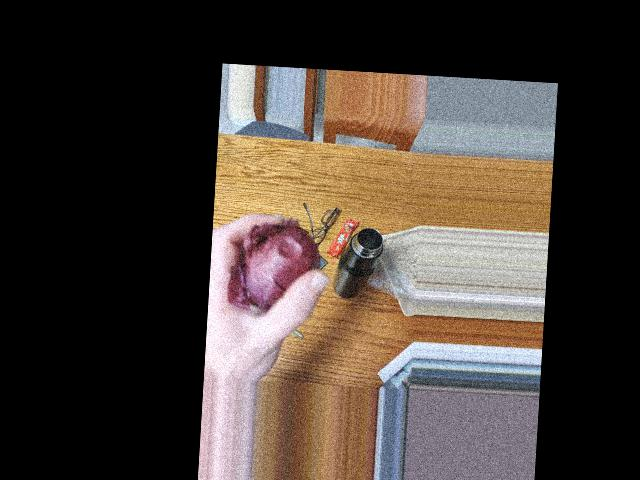onion: (236, 223, 322, 313)
